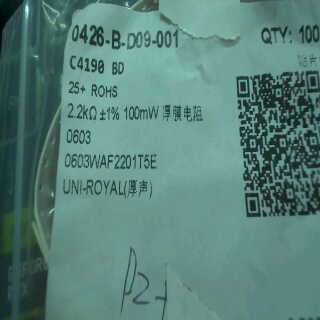2.2kR: (63, 96, 97, 124)
